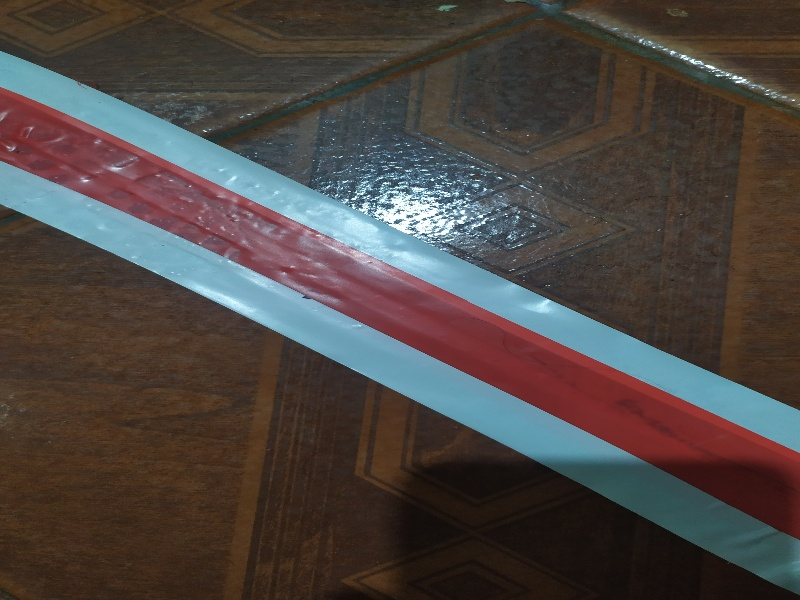saindoDireita: (1, 12, 794, 586)
